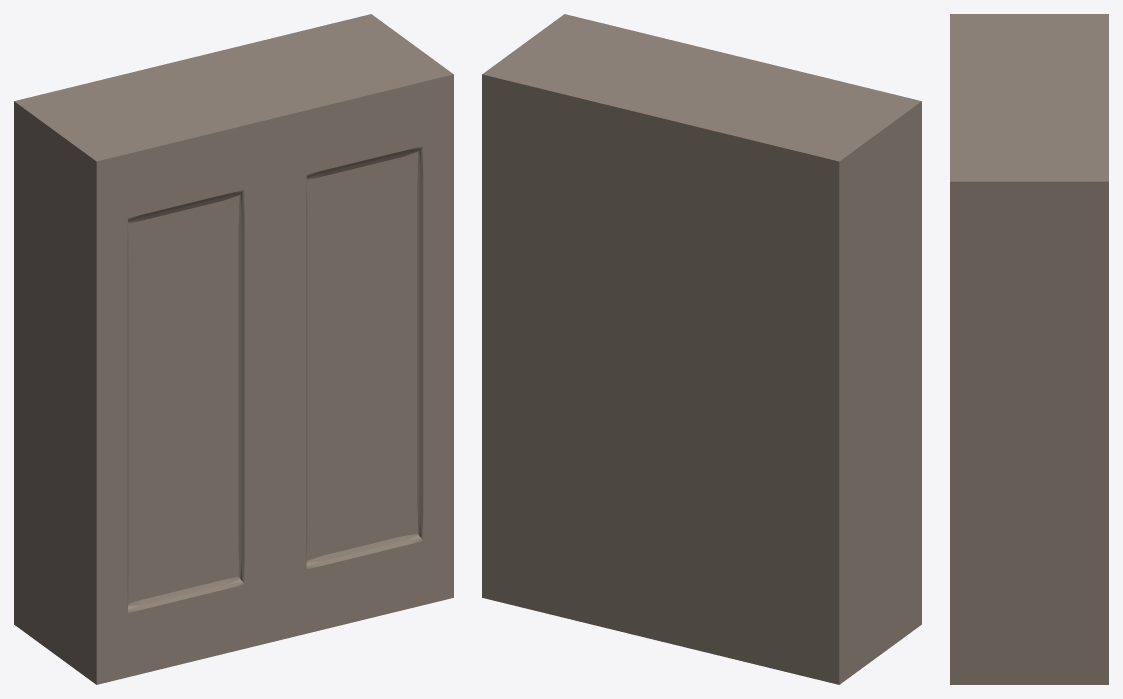
Rendered from Wall-Cabinet-21-High-12-Deep_std_001_H42in_onlyH.glb.
3 renders of one model, left to right at view 1: azimuth 30°, elevation 25°; view 2: azimuth 150°, elevation 25°; view 3: azimuth 270°, elevation 25°, orthographic. The views are drawn at different scales.
Visible parts, largest first — view 1: Wall-Cabinet-21-High-12-Deep.std.001_H42in_onlyH; view 2: Wall-Cabinet-21-High-12-Deep.std.001_H42in_onlyH; view 3: Wall-Cabinet-21-High-12-Deep.std.001_H42in_onlyH.
Part boxes in pixels (box(x1,y1,x2,y2)): Wall-Cabinet-21-High-12-Deep.std.001_H42in_onlyH: box(14, 14, 453, 684); Wall-Cabinet-21-High-12-Deep.std.001_H42in_onlyH: box(482, 14, 921, 684); Wall-Cabinet-21-High-12-Deep.std.001_H42in_onlyH: box(950, 14, 1108, 684).
Bounding box in the file's own units: 0.762 × 1.07 × 0.3048.
